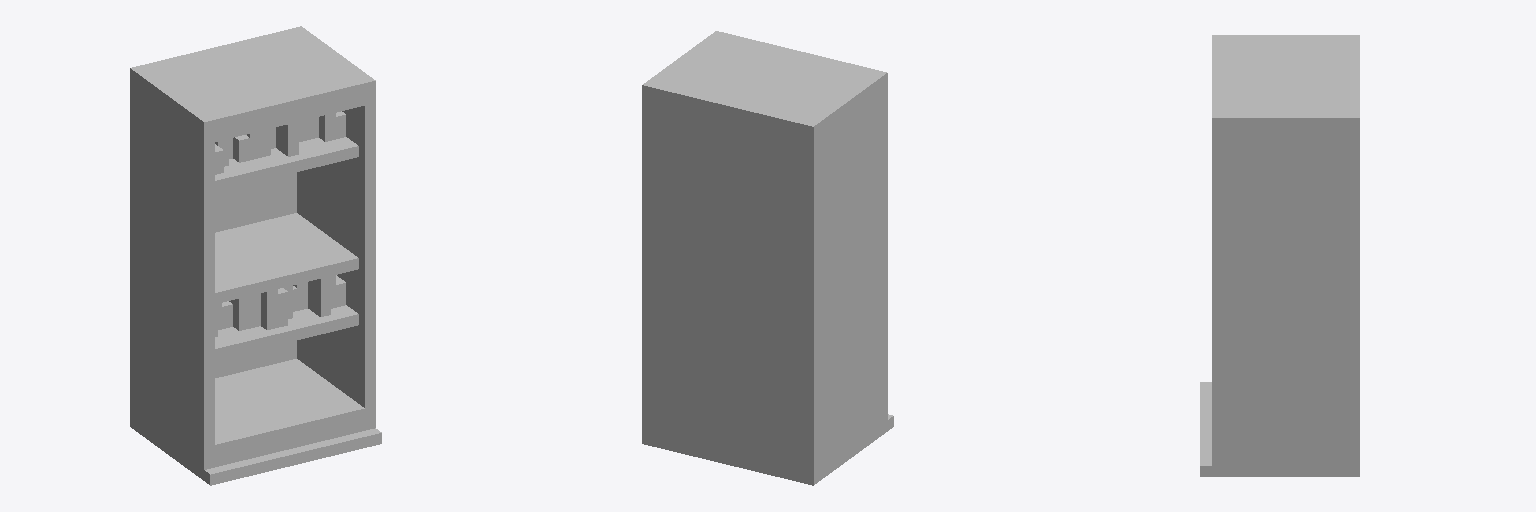
The model's file is Shelf.obj.
The picture shows the model from 3 angles: view 1: azimuth 30°, elevation 25°; view 2: azimuth 150°, elevation 25°; view 3: azimuth 270°, elevation 25°; orthographic projection.
Parts seen in each view (by area): view 1: Shelf; view 2: Shelf; view 3: Shelf.
Part boxes in pixels (x1,y1,x2,y2): Shelf: (130, 26, 381, 485); Shelf: (642, 31, 893, 485); Shelf: (1200, 35, 1359, 476).
Size of the model in its own units: 16 by 32 by 13.